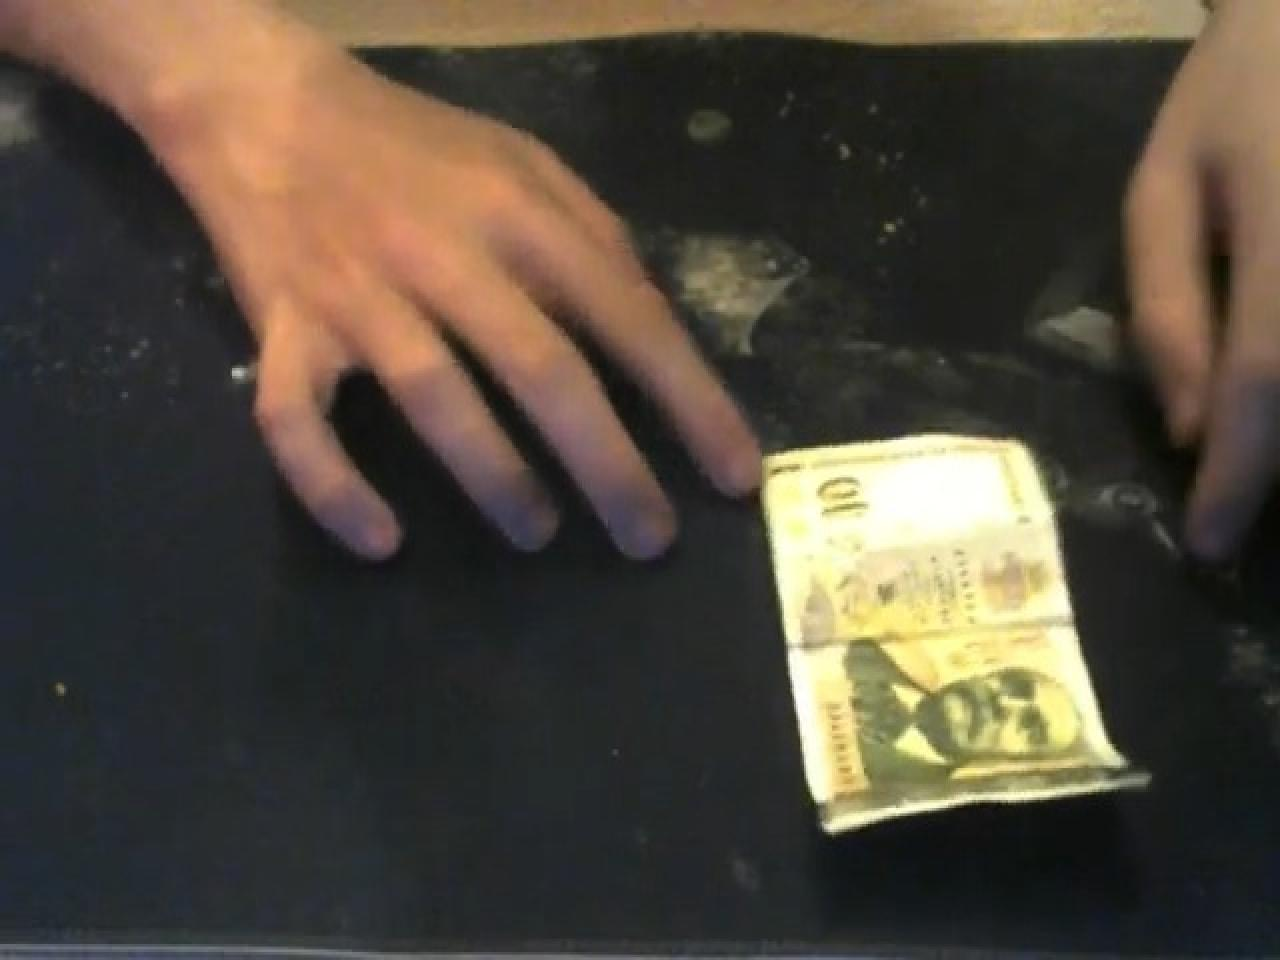10leva: (762, 435, 1152, 840)
